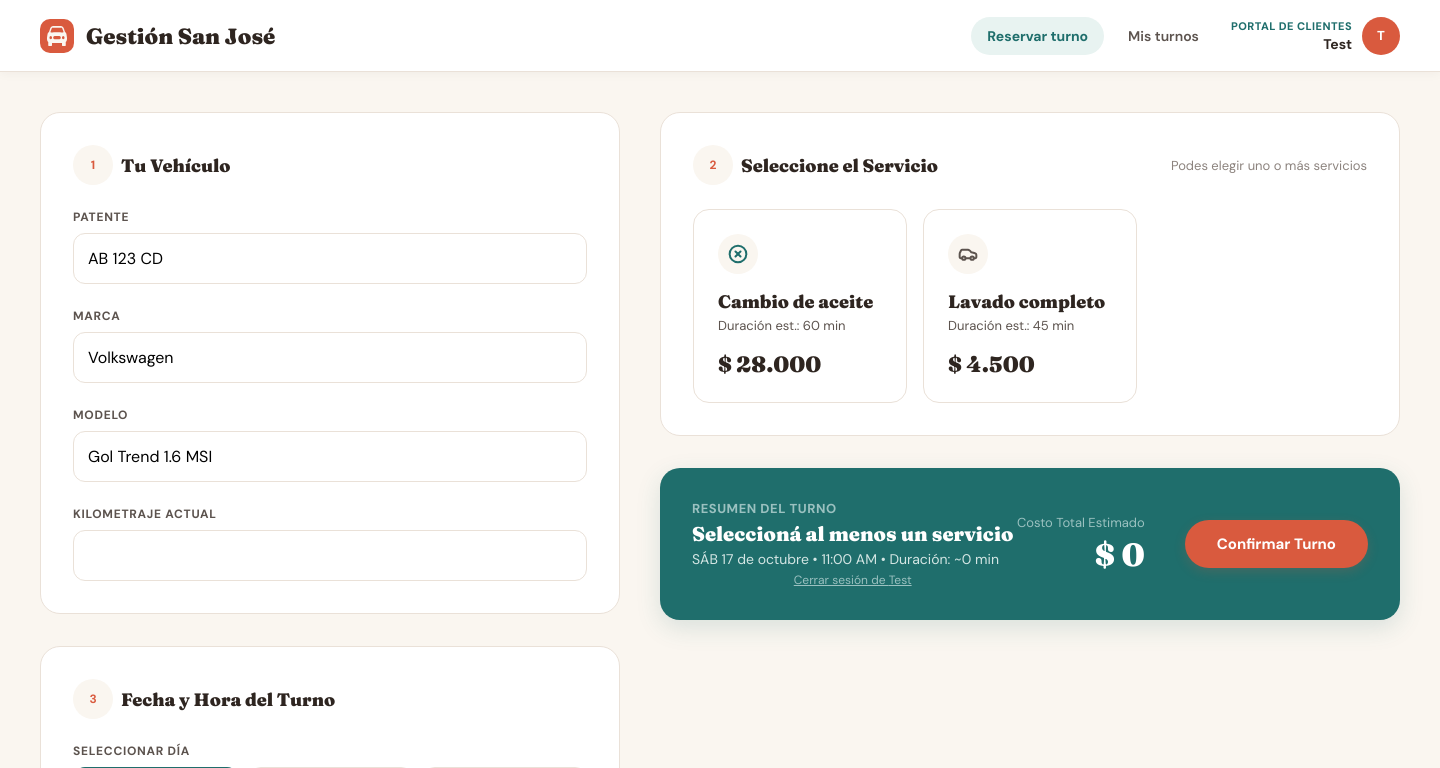
Reservar turno › actualiza el total al seleccionar servicios
The image size is (1440, 768).
Expected: the text "Seleccioná al menos un servicio" is shown, [692,521,1013,546]
Click the button "Cambio de aceite Duración est.: 60 min $ 28.000".
click(800, 306)  # box [693,209,907,403]
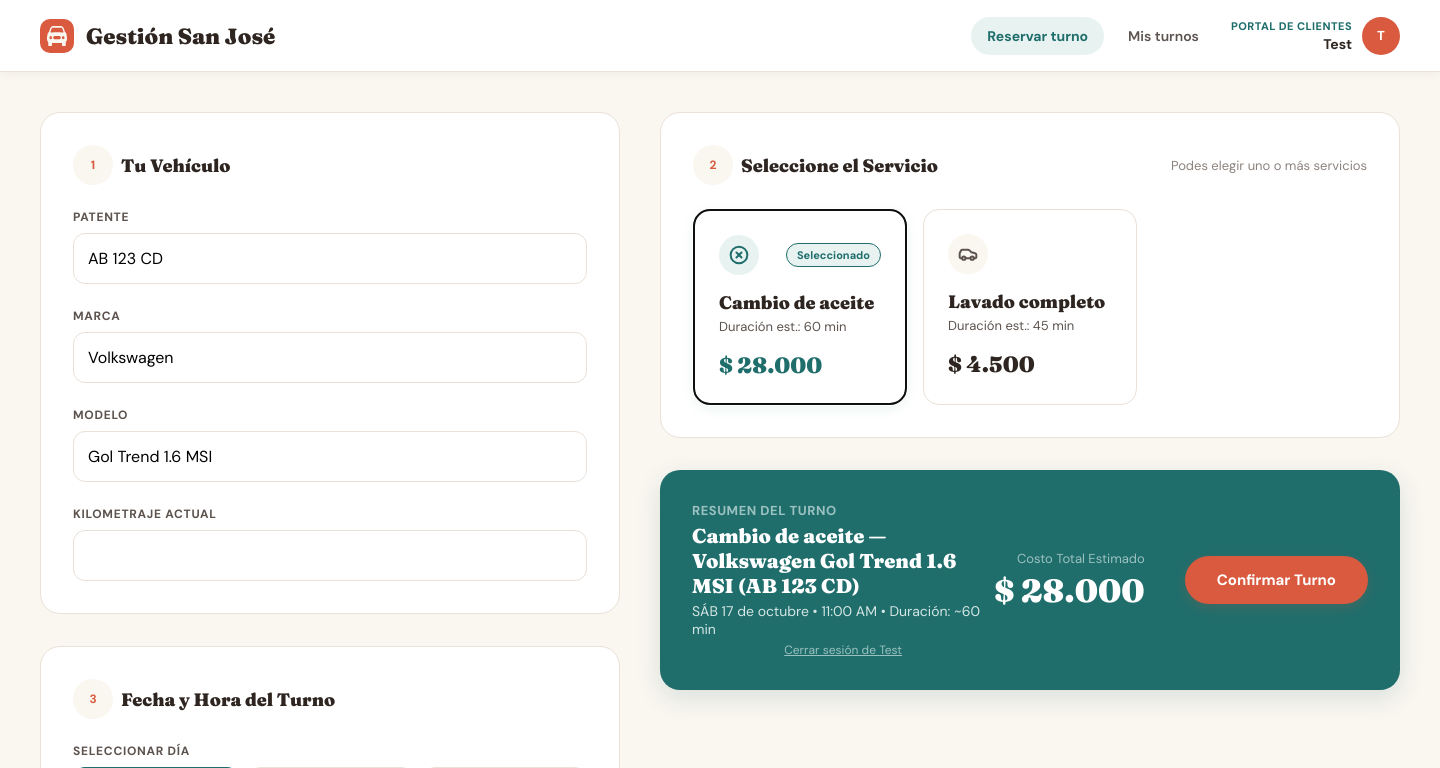
Expected: the text "$ 28.000" below "Seleccione el Servicio" is shown, [719,351,822,379]
Click the button "Lavado completo Duración est.: 45 min $ 4.500".
click(1030, 307)  # box [923,209,1137,405]
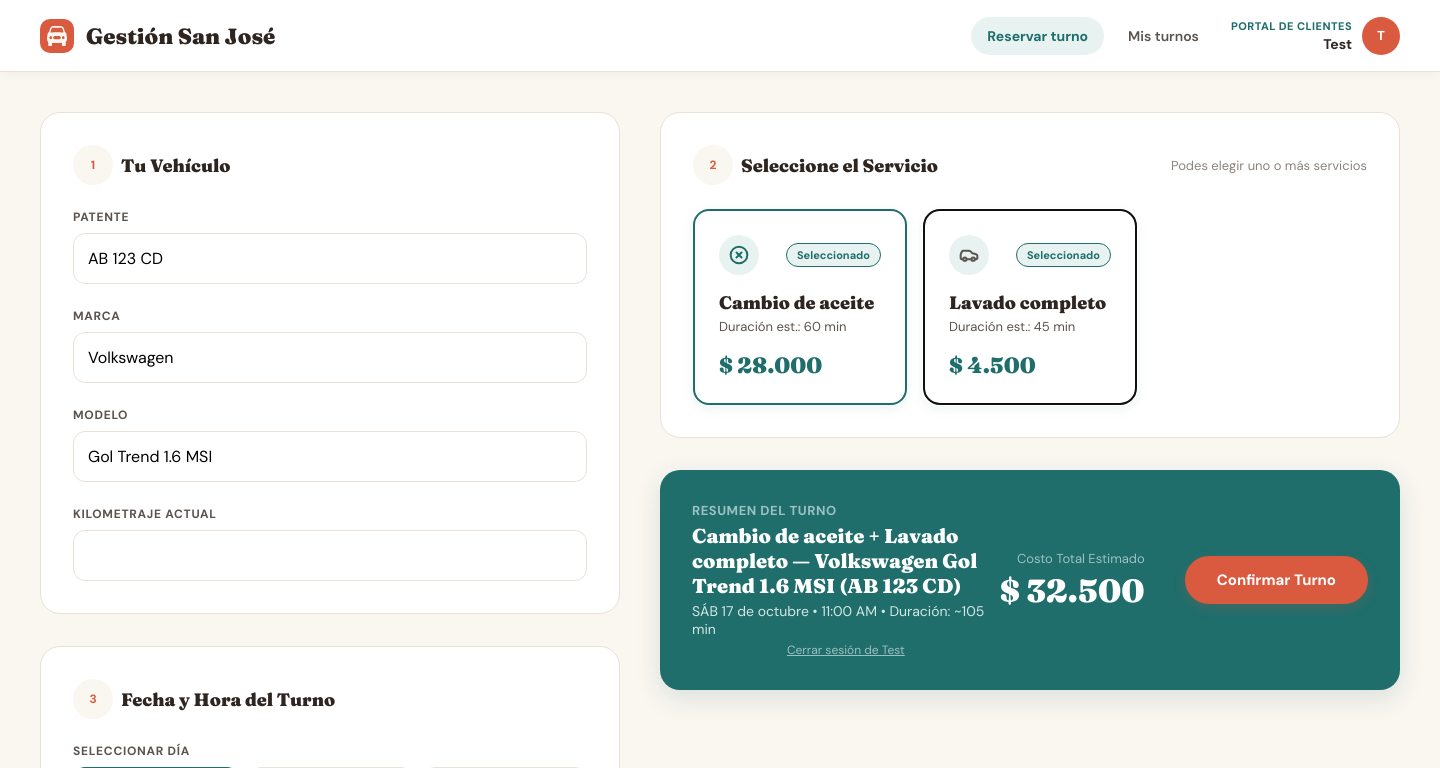
Expected: the text "$ 32.500" is shown, [1000,571,1145,610]
